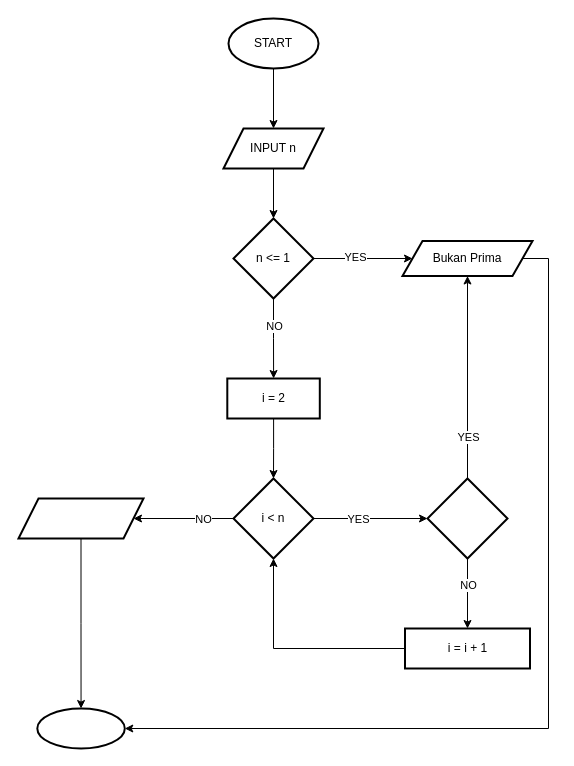
Image size: 574x766. Some labels were removed from this diagram. The box of each missing label's shape, as (x1, y1, x2, y2) in pixels:
Bilangan Prima: (17, 497, 144, 539)
END: (36, 707, 125, 749)
n mod i = 0: (426, 477, 508, 559)
